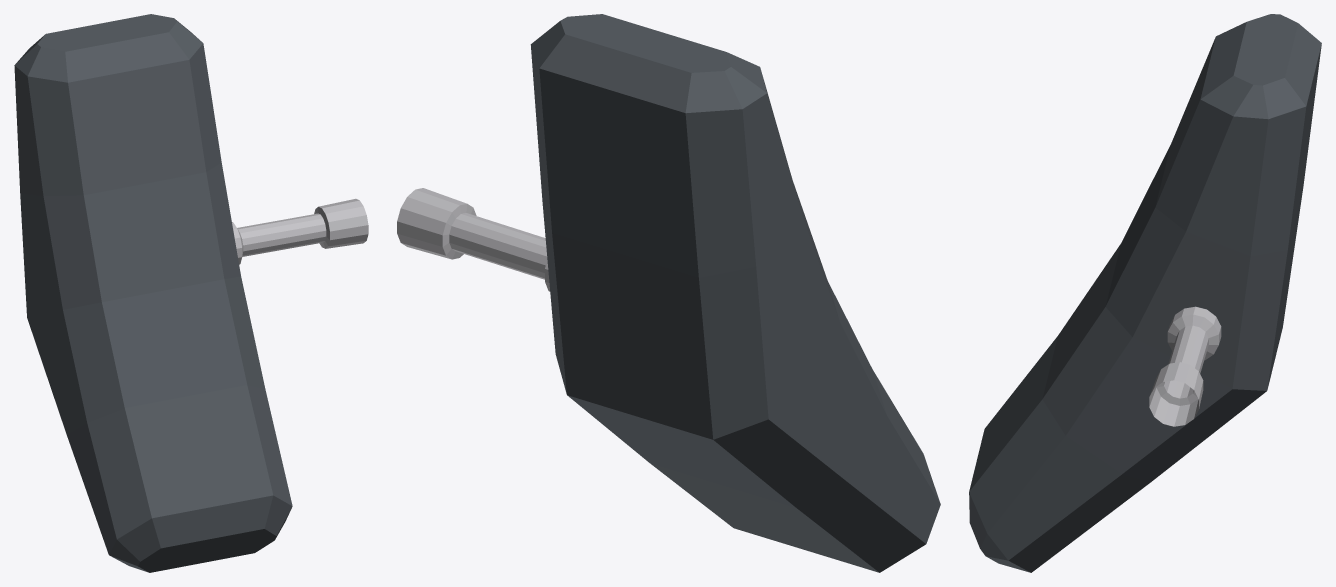
Rendered from Personal_Vehicle_04_Detail_1.fbx.
3 renders of one model, left to right at view 1: azimuth 30°, elevation 25°; view 2: azimuth 150°, elevation 25°; view 3: azimuth 270°, elevation 25°, orthographic. The views are drawn at different scales.
Parts seen in each view (by area): view 1: Personal_Vehicle_04_Detail_1; view 2: Personal_Vehicle_04_Detail_1; view 3: Personal_Vehicle_04_Detail_1.
Boxes of the visible parts, <box> form: Personal_Vehicle_04_Detail_1: <box>14,14,368,572</box>; Personal_Vehicle_04_Detail_1: <box>397,14,940,572</box>; Personal_Vehicle_04_Detail_1: <box>969,14,1321,572</box>.
Size of the model in its own units: 21.65 by 28.89 by 18.4.
1 material, 1 textured.
